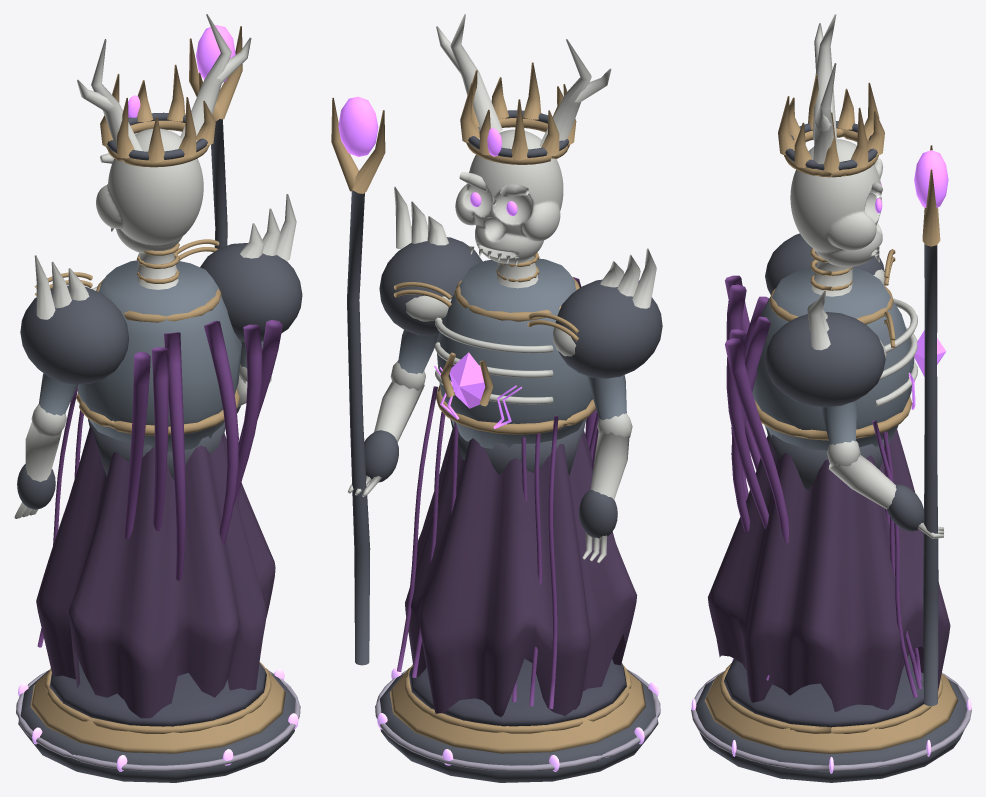
File: roi_liche.fbx
The picture shows the model from 3 angles, left to right: view 1: azimuth 30°, elevation 25°; view 2: azimuth 150°, elevation 25°; view 3: azimuth 270°, elevation 25°; orthographic projection.
Parts seen in each view (by area): view 1: ragged_cloak, armored_cuirass, sculpted_skull, pauldron_-1, plinth_lower, plinth_beveled, pauldron_1, plinth_inner, back_mantle_ribbon_-1_0, back_mantle_ribbon_1_0, back_mantle_ribbon_-1_1, back_mantle_ribbon_-1_2 (+28 smaller); view 2: ragged_cloak, armored_cuirass, sculpted_skull, pauldron_-1, plinth_lower, ritual_staff, plinth_beveled, pauldron_1, plinth_inner, plinth_silver_trim, plinth_gold_rim, armored_waist (+32 smaller); view 3: ragged_cloak, armored_cuirass, pauldron_1, sculpted_skull, plinth_lower, ritual_staff, plinth_beveled, plinth_inner, back_mantle_ribbon_1_2, plinth_silver_trim, back_mantle_ribbon_1_1, pauldron_-1 (+24 smaller).
Boxes of the visible parts, <box> form: ragged_cloak: <box>36,426,275,718</box>; armored_cuirass: <box>77,260,241,452</box>; sculpted_skull: <box>96,128,203,253</box>; pauldron_-1: <box>20,285,128,384</box>; plinth_lower: <box>18,670,295,782</box>; plinth_beveled: <box>30,668,285,753</box>; pauldron_1: <box>200,243,302,341</box>; plinth_inner: <box>49,659,266,726</box>; back_mantle_ribbon_-1_0: <box>164,332,185,581</box>; back_mantle_ribbon_1_0: <box>204,320,238,544</box>; back_mantle_ribbon_-1_1: <box>151,347,168,531</box>; back_mantle_ribbon_-1_2: <box>125,351,150,539</box>; ragged_cloak: <box>405,429,637,717</box>; armored_cuirass: <box>436,258,592,448</box>; sculpted_skull: <box>455,129,563,263</box>; pauldron_-1: <box>555,279,662,378</box>; plinth_lower: <box>380,670,658,782</box>; ritual_staff: <box>347,191,370,665</box>; plinth_beveled: <box>390,667,645,753</box>; pauldron_1: <box>379,237,482,336</box>; plinth_inner: <box>409,658,626,726</box>; plinth_silver_trim: <box>375,669,660,771</box>; plinth_gold_rim: <box>404,664,631,733</box>; armored_waist: <box>450,418,586,475</box>; ragged_cloak: <box>707,428,950,711</box>; armored_cuirass: <box>752,267,914,450</box>; pauldron_1: <box>765,312,885,407</box>; sculpted_skull: <box>790,139,882,266</box>; plinth_lower: <box>695,679,967,782</box>; ritual_staff: <box>923,244,938,705</box>; plinth_beveled: <box>704,672,958,753</box>; plinth_inner: <box>723,654,923,727</box>; back_mantle_ribbon_1_2: <box>725,338,788,680</box>; plinth_silver_trim: <box>691,671,971,771</box>; back_mantle_ribbon_1_1: <box>726,329,768,528</box>; pauldron_-1: <box>765,233,884,294</box>.
Size of the model in its own units: 73.77 by 185 by 68.4.
